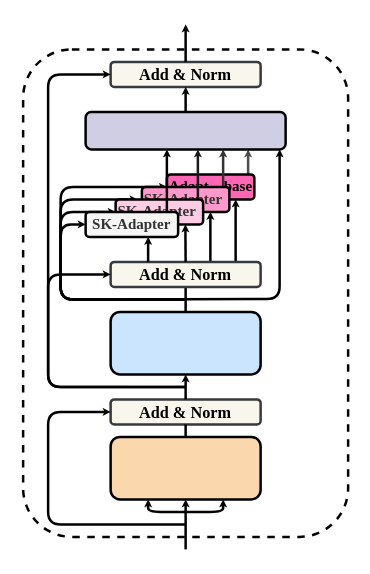
This 370x574 diagram has some shape labels left out. The shapes that lost their labels are listed below. From the top down, each one's centre as x and y in pixels, then its label:
[185,130]: Adapter Election
[185,342]: Feed Forward
[185,467]: Multi-Head Attention
